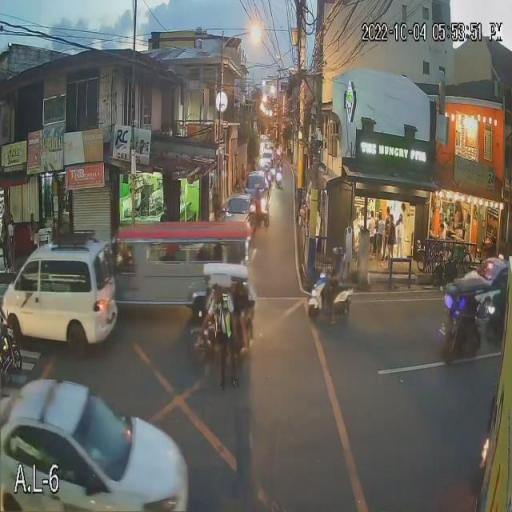helmet: (331, 245, 345, 262)
motorcycle: (306, 276, 354, 321)
rider: (326, 261, 344, 317)
